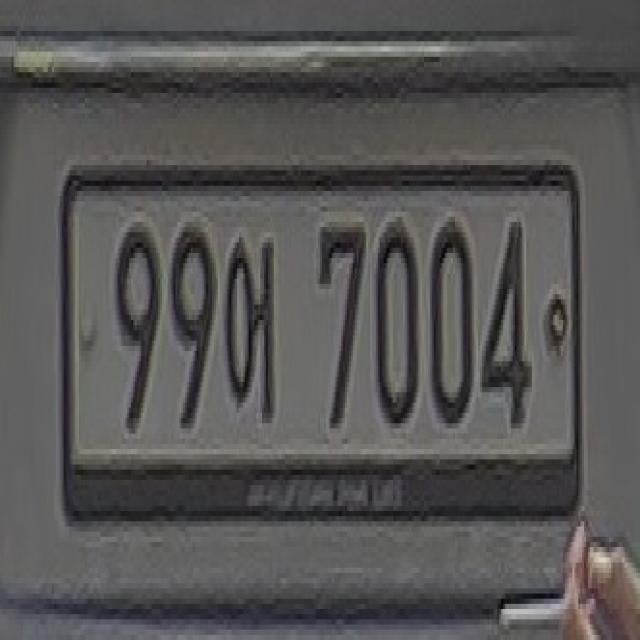0: (425, 207, 477, 451), (372, 210, 422, 443)
4: (480, 203, 535, 454)
7: (311, 210, 369, 446)
9: (166, 216, 217, 448), (113, 218, 163, 447)
eo: (220, 212, 282, 450)
license_plate: (62, 168, 581, 514)
